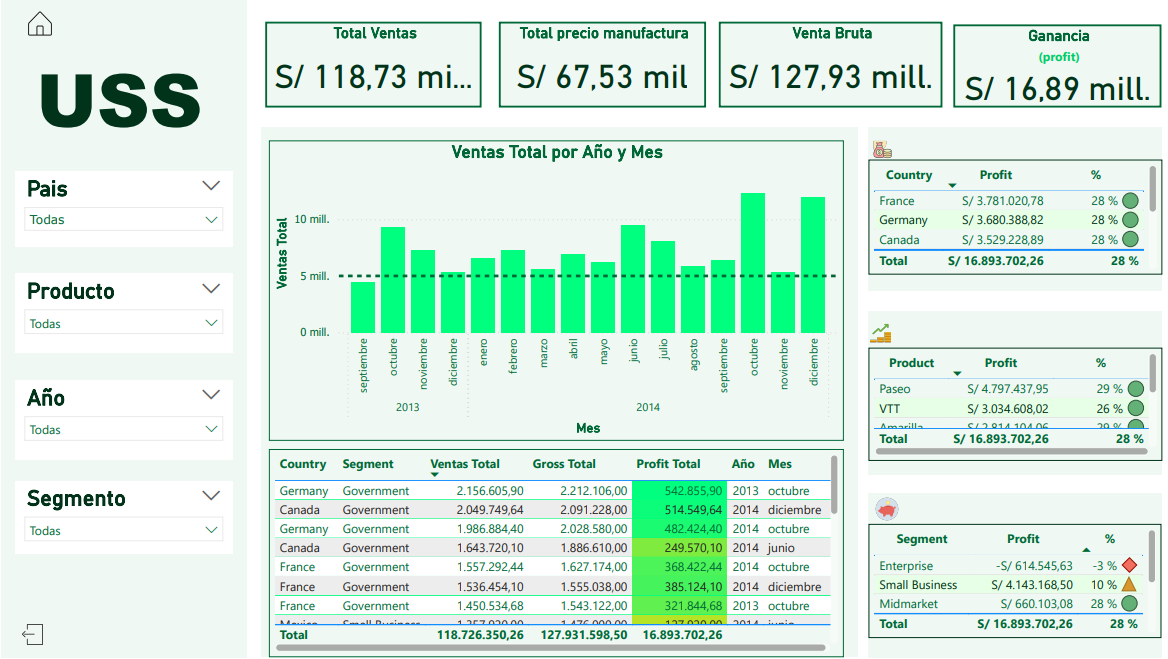

What the dashboard file says about the page in this screenshot:
{"tool":"powerbi","page":{"name":"Página 1","canvas":[1280,720],"ordinal":0},"visuals":[{"type":"card","title":"Total Ventas","fields":{"Values":["Totales.Ventas Total"]},"box":[288.5,24.2,237.5,93.9],"z":0},{"type":"shape","box":[0,0,268.8,720],"z":1000},{"type":"textbox","box":[33.3,46.1,202.3,128],"z":2000},{"type":"image","box":[15.4,6.4,53.8,39.7],"z":3000},{"type":"card","title":"Total precio manufactura","fields":{"Values":["Totales.Manofacturing Total"]},"box":[545.4,24.3,226.6,93.5],"z":4000},{"type":"card","title":"Venta Bruta","fields":{"Values":["Totales.Gross Total"]},"box":[786.1,24.3,244.5,93.5],"z":5000},{"type":"card","title":"Ganancia","fields":{"Values":["Totales.Profit Total"]},"box":[1043.4,26.9,227.9,90.9],"z":6000},{"type":"image","box":[15.4,678.5,37.1,32],"z":7000},{"type":"slicer","fields":{"Values":["financials.Country"]},"box":[15.4,188.2,238.1,83.2],"z":8000},{"type":"slicer","fields":{"Values":["financials.Product"]},"box":[15.4,299.6,238.1,87.1],"z":9000},{"type":"slicer","fields":{"Values":["financials.Year"]},"box":[15.4,417.4,238.1,87.1],"z":10000},{"type":"slicer","fields":{"Values":["financials.Segment"]},"box":[15.4,527.5,238.1,78.1],"z":11000},{"type":"shape","box":[284.2,139.5,654.2,580],"z":12000},{"type":"columnChart","fields":{"Y":["Totales.Ventas Total"],"Category":["financials.Date.Variación.Jerarquía de fechas.Año","financials.Date.Variación.Jerarquía de fechas.Mes"]},"box":[293.2,153.6,629.9,329],"z":13000},{"type":"tableEx","fields":{"Values":["financials.Country","financials.Segment","Totales.Ventas Total","Totales.Gross Total","Totales.Profit Total","financials.Date.Variación.Jerarquía de fechas.Año","financials.Date.Variación.Jerarquía de fechas.Mes"]},"box":[293.2,491.6,629.9,227.9],"z":14000},{"type":"shape","box":[948.7,139.5,322.6,179.2],"z":15000},{"type":"shape","box":[948.7,540.3,322.6,179.2],"z":16000},{"type":"shape","box":[948.7,340.5,322.6,179.2],"z":17000},{"type":"image","box":[949.7,139.3,30.5,49.1],"z":18000},{"type":"image","box":[947.4,343.1,32,43.5],"z":19000},{"type":"image","box":[948.7,540.3,43.5,34.6],"z":20000},{"type":"tableEx","fields":{"Values":["financials.Country","Totales.Profit Total","Avg(financials.% profit)"]},"box":[949.7,175.1,322.3,126],"z":21000},{"type":"tableEx","fields":{"Values":["financials.Product","Totales.Profit Total","Avg(financials.% profit)"]},"box":[949.7,380.7,322.3,124.7],"z":22000},{"type":"tableEx","fields":{"Values":["financials.Segment","Totales.Profit Total","Avg(financials.% profit)"]},"box":[949.7,574.3,321,124.7],"z":23000}]}

Visuals, with their boxes in screenshot pixels (x1, y1, x2, y2), scaled from the page's 1280x720 canvas onto the 1168x659 screenshot:
"Total Ventas" card: bbox=(263, 22, 480, 108)
shape: bbox=(0, 0, 245, 658)
textbox: bbox=(30, 42, 215, 159)
image: bbox=(14, 6, 63, 42)
"Total precio manufactura" card: bbox=(498, 22, 704, 108)
"Venta Bruta" card: bbox=(717, 22, 940, 108)
"Ganancia" card: bbox=(952, 25, 1160, 108)
image: bbox=(14, 621, 48, 650)
slicer - financials.Country: bbox=(14, 172, 231, 248)
slicer - financials.Product: bbox=(14, 274, 231, 354)
slicer - financials.Year: bbox=(14, 382, 231, 462)
slicer - financials.Segment: bbox=(14, 483, 231, 554)
shape: bbox=(259, 128, 856, 658)
columnChart - Totales.Ventas Total x financials.Date.Variación.Jerarquía de fechas.Año: bbox=(268, 141, 842, 442)
tableEx - financials.Country x financials.Segment: bbox=(268, 450, 842, 658)
shape: bbox=(866, 128, 1160, 292)
shape: bbox=(866, 495, 1160, 658)
shape: bbox=(866, 312, 1160, 476)
image: bbox=(867, 127, 894, 172)
image: bbox=(865, 314, 894, 354)
image: bbox=(866, 495, 905, 526)
tableEx - financials.Country x Totales.Profit Total: bbox=(867, 160, 1161, 276)
tableEx - financials.Product x Totales.Profit Total: bbox=(867, 348, 1161, 463)
tableEx - financials.Segment x Totales.Profit Total: bbox=(867, 526, 1160, 640)
